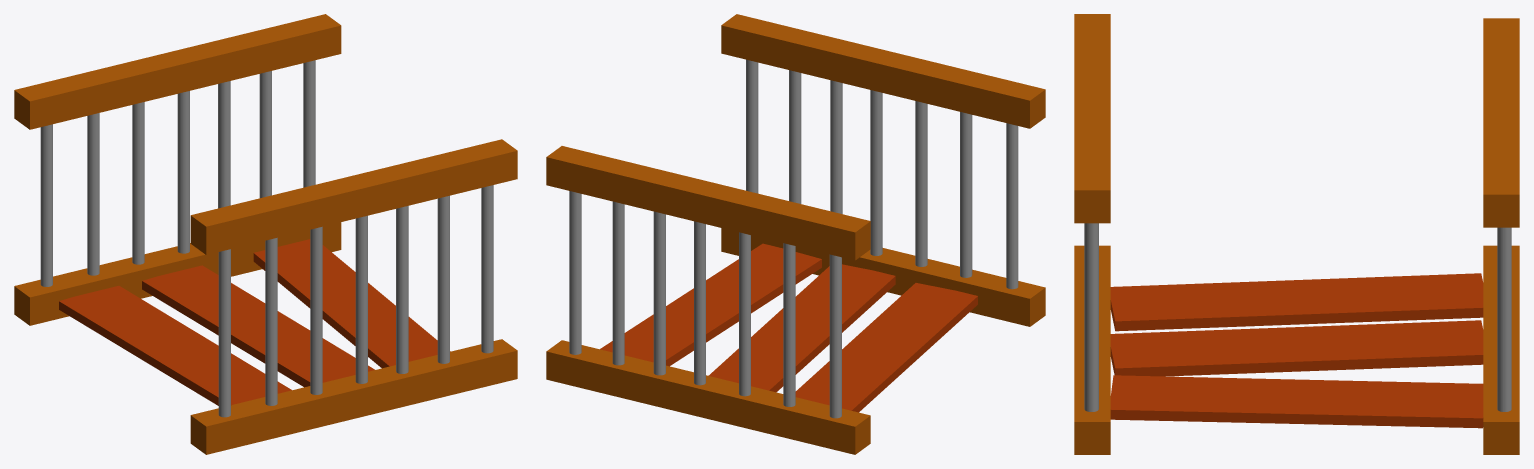
The model's file is PonteWithCylinder.fbx.
3 renders of one model, left to right at view 1: azimuth 30°, elevation 25°; view 2: azimuth 150°, elevation 25°; view 3: azimuth 270°, elevation 25°, orthographic. The views are drawn at different scales.
Visible parts, largest first — view 1: Cube.006, Cube.005, Cube.004, Cube.001, Cube, Cube.002, Cube.003, Cylinder.006, Cylinder, Cylinder.001, Cylinder.002, Cylinder.003 (+9 smaller); view 2: Cube.006, Cube.005, Cube.003, Cube.001, Cube, Cube.002, Cube.004, Cylinder, Cylinder.002, Cylinder.003, Cylinder.001, Cylinder.008 (+9 smaller); view 3: Cube.002, Cube.001, Cube, Cube.005, Cube.006, Cube.003, Cube.004, Cylinder.006, Cylinder.007.
Boxes of the visible parts, box(x1,y1,x2,y2) form: Cube.006: box(14, 14, 341, 129); Cube.005: box(190, 139, 517, 254); Cube.004: box(190, 339, 517, 454); Cube.001: box(59, 286, 291, 405); Cube: box(142, 265, 374, 387); Cube.002: box(253, 239, 450, 368); Cube.003: box(14, 222, 341, 325); Cylinder.006: box(481, 185, 493, 353); Cylinder: box(218, 249, 230, 417); Cylinder.001: box(265, 237, 277, 405); Cylinder.002: box(310, 226, 322, 394); Cylinder.003: box(355, 215, 367, 383); Cube.006: box(546, 146, 870, 260); Cube.005: box(721, 14, 1045, 128); Cube.003: box(546, 340, 870, 454); Cube.001: box(795, 283, 977, 412); Cube: box(708, 264, 895, 392); Cube.002: box(600, 243, 821, 366); Cube.004: box(721, 228, 1045, 326); Cylinder: box(1006, 123, 1018, 289); Cylinder.002: box(915, 101, 927, 266); Cylinder.003: box(870, 90, 882, 255); Cylinder.001: box(960, 112, 972, 277); Cylinder.008: box(612, 201, 624, 365); Cube.002: box(1110, 375, 1483, 428); Cube.001: box(1110, 273, 1483, 331); Cube: box(1110, 320, 1483, 376); Cube.005: box(1074, 14, 1110, 223); Cube.006: box(1483, 18, 1519, 227); Cube.003: box(1483, 245, 1519, 454); Cube.004: box(1074, 245, 1110, 454); Cylinder.006: box(1084, 223, 1098, 411); Cylinder.007: box(1497, 227, 1511, 411).
Bounding box in the file's own units: 43.19 × 30.24 × 46.1.
